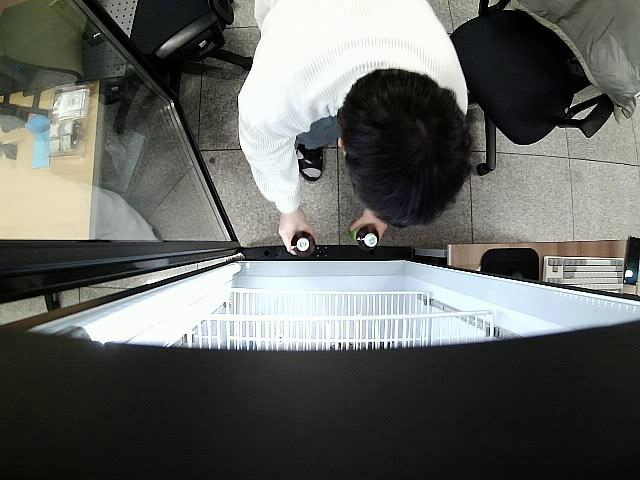19_17cha: (346, 220, 382, 250), (290, 230, 316, 259)
